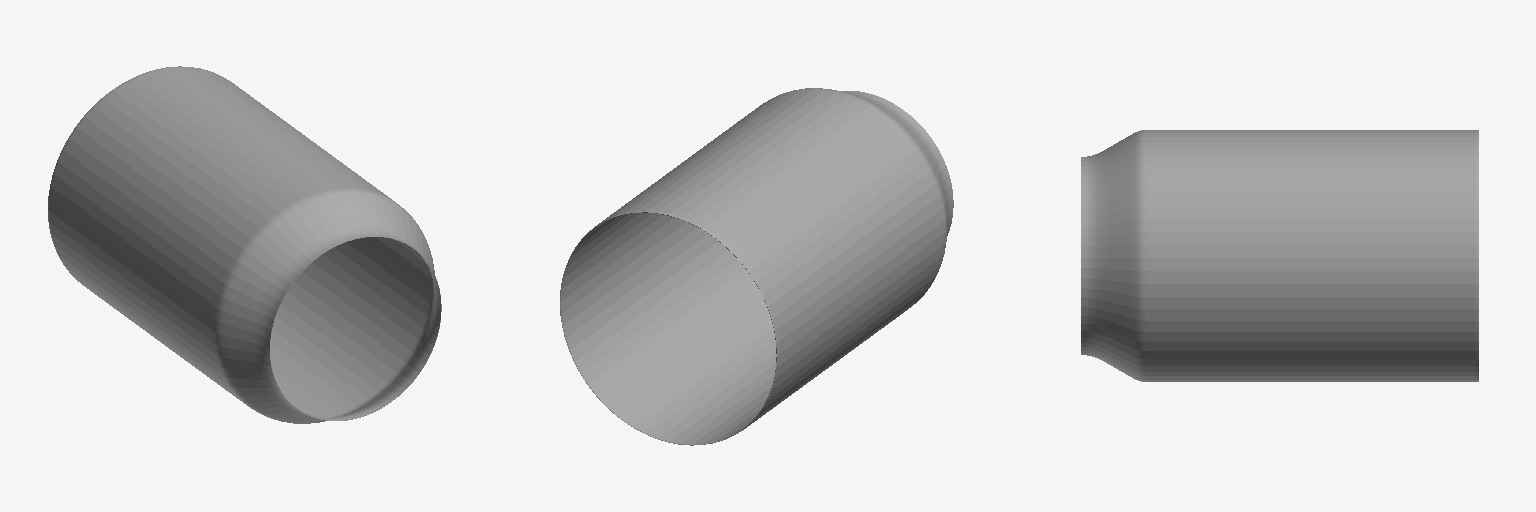
File: CokeCanTrademark.obj
The picture shows the model from 3 angles: view 1: azimuth 30°, elevation 25°; view 2: azimuth 150°, elevation 25°; view 3: azimuth 270°, elevation 25°; orthographic projection.
Parts seen in each view (by area): view 1: CokeCanTrademark; view 2: CokeCanTrademark; view 3: CokeCanTrademark.
Boxes of the visible parts, x1=… form: CokeCanTrademark: x1=48, y1=66, x2=441, y2=423; CokeCanTrademark: x1=560, y1=88, x2=953, y2=445; CokeCanTrademark: x1=1081, y1=130, x2=1478, y2=381.
Size of the model in its own units: 0.0591 by 0.0591 by 0.0936.